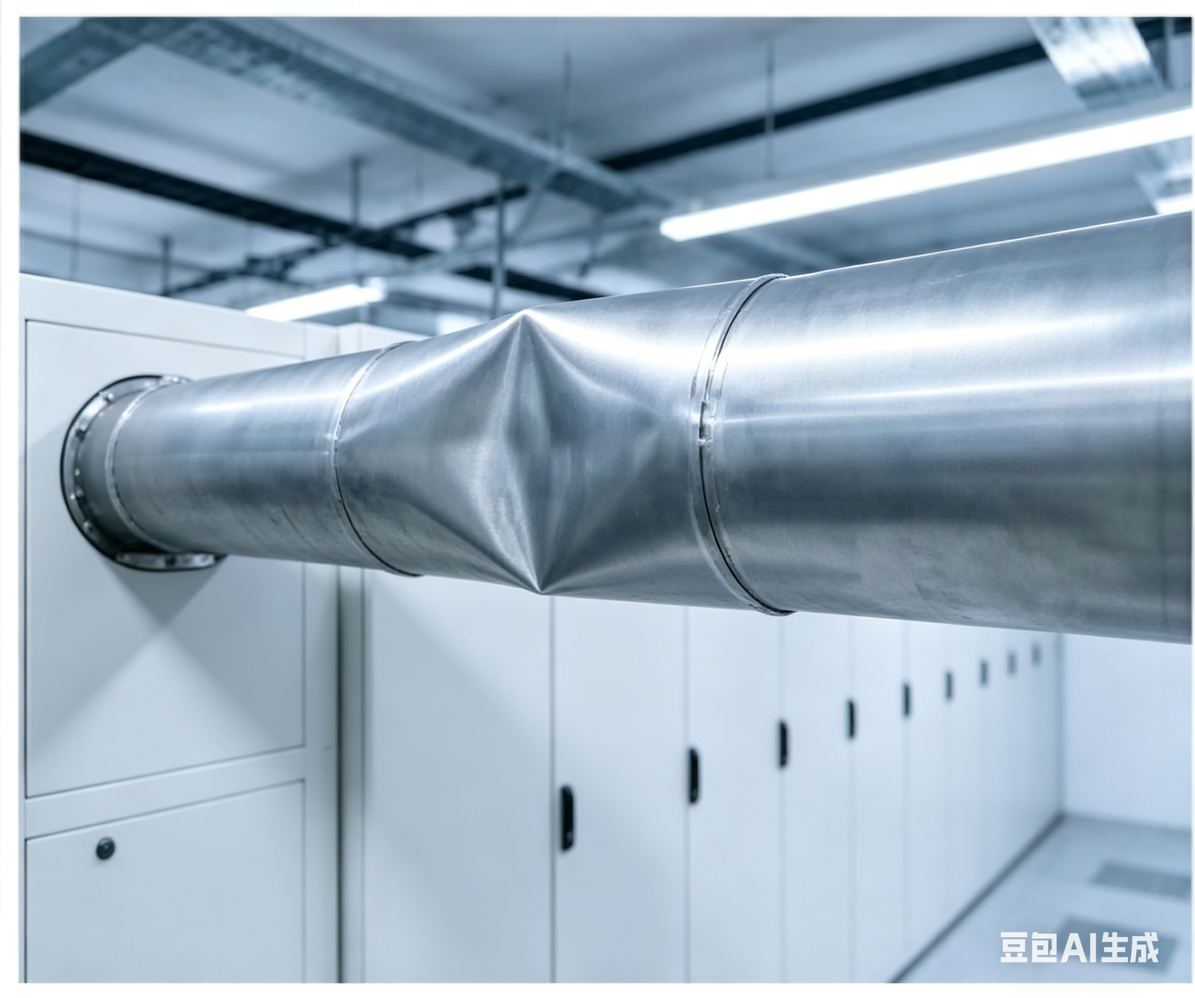Leakage: (429, 290, 654, 611)
